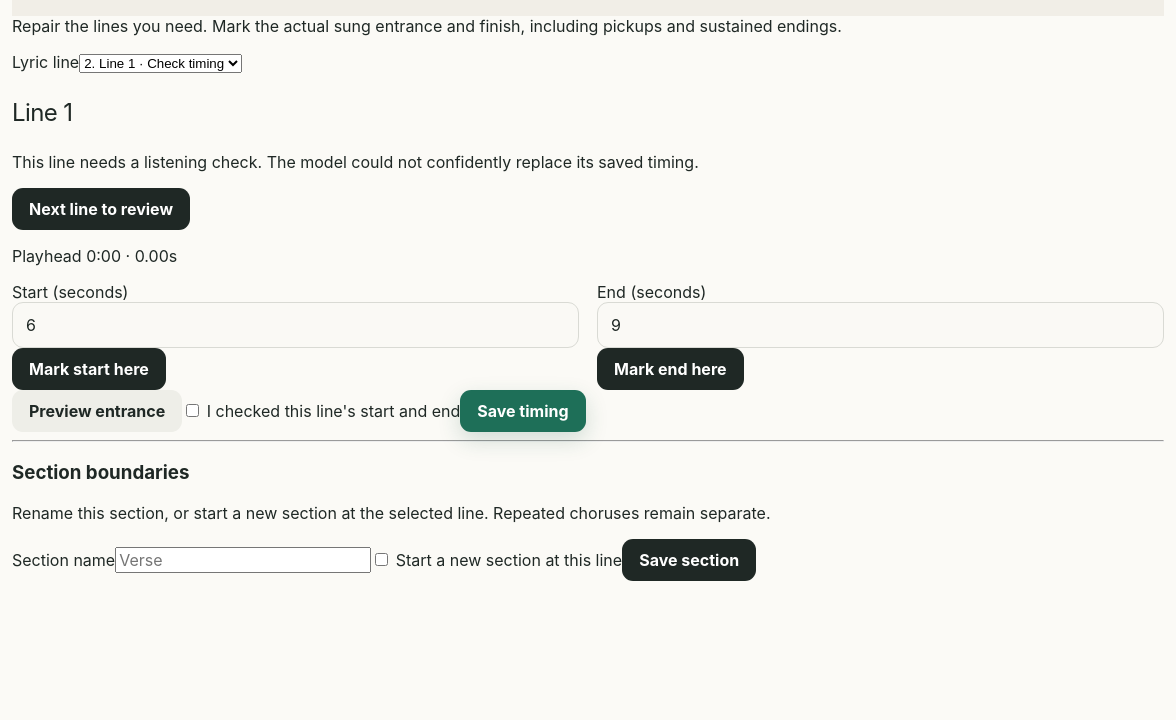
Test: opens on the first flagged line and moves through the review queue
Check: the dropdown labelled "Lyric line" shows "2. Line 1 · Check timing", box top-left (79, 54), bottom-right (242, 73)
Click the button "Next line to review". click: (101, 209)
box: top-left (12, 188), bottom-right (190, 230)
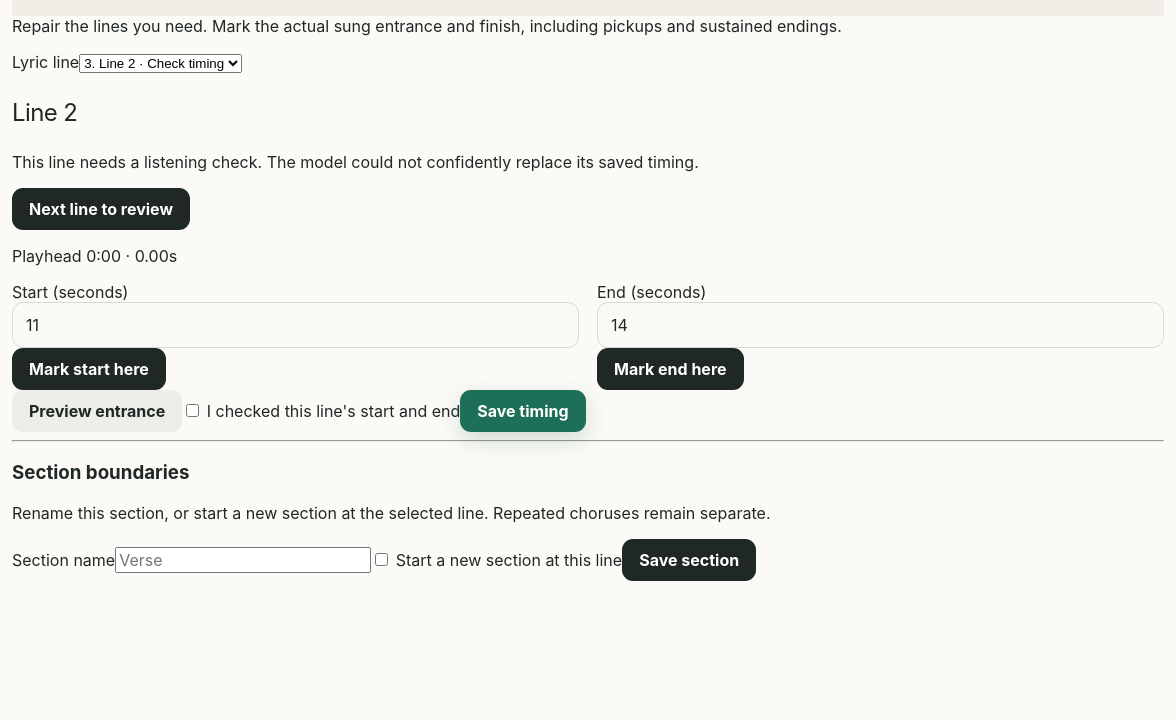
Check: the text "could not confidently replace" is shown, box top-left (12, 152), bottom-right (699, 172)
Check: the dropdown labelled "Lyric line" shows "3. Line 2 · Check timing", box top-left (79, 54), bottom-right (242, 73)
